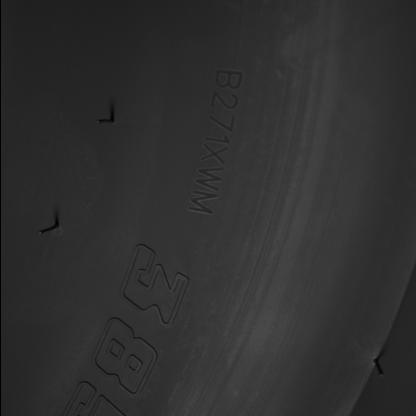ocr: (185, 69, 245, 215)
